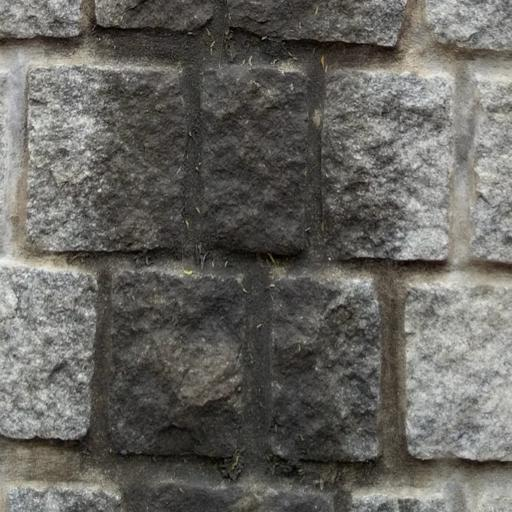stain: (41, 0, 391, 511)
